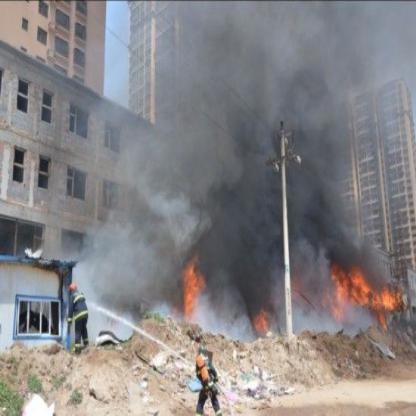fire: (182, 260, 199, 317), (334, 263, 350, 309), (351, 266, 368, 306), (372, 288, 400, 309)
